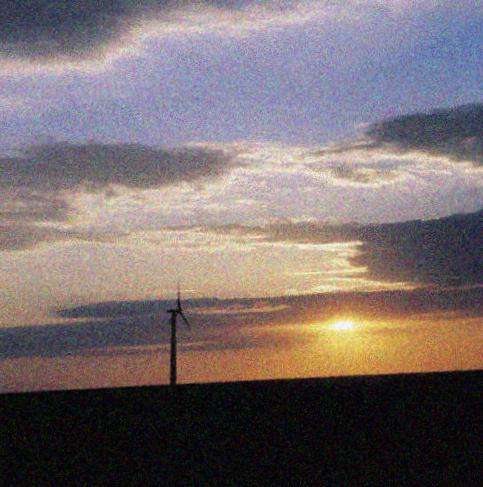wind turbine: (160, 279, 197, 384)
